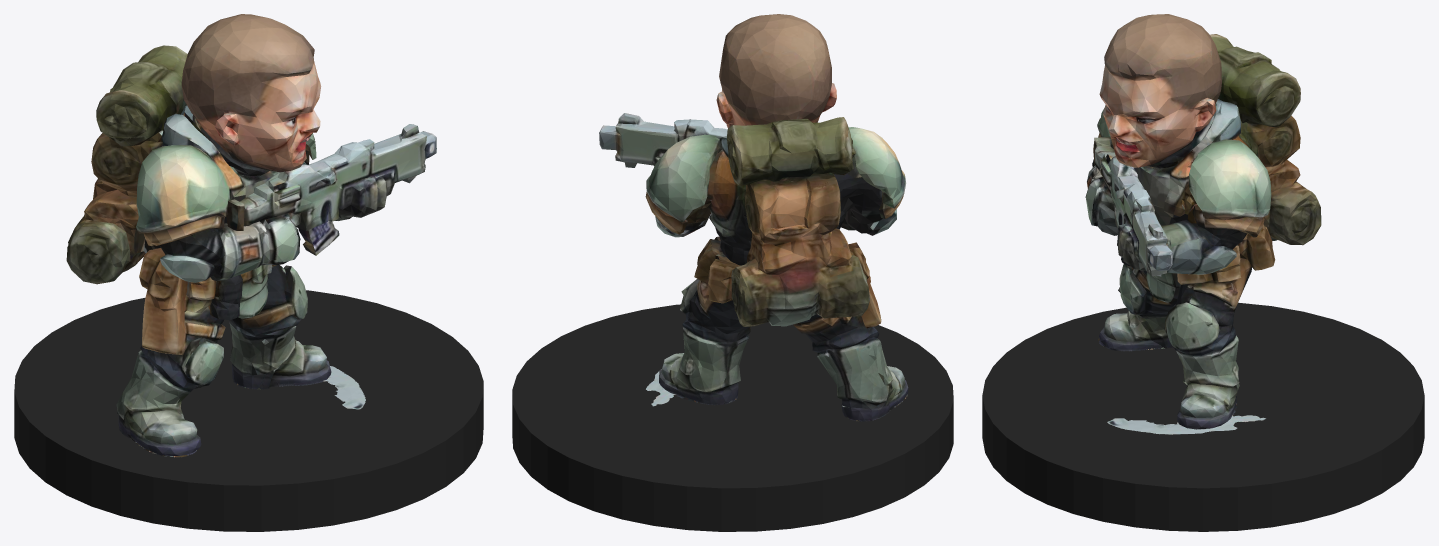
Rendered from ss-warrior-boltgun-b.glb.
The picture shows the model from 3 angles, left to right: view 1: azimuth 30°, elevation 25°; view 2: azimuth 150°, elevation 25°; view 3: azimuth 270°, elevation 25°; orthographic projection. The views are drawn at different scales.
Parts seen in each view (by area): view 1: figure, base; view 2: base, figure; view 3: base, figure.
Part boxes in pixels (bbox=[...]): figure: bbox=[66, 14, 436, 457]; base: bbox=[14, 290, 483, 531]; base: bbox=[512, 304, 953, 531]; figure: bbox=[599, 14, 908, 421]; base: bbox=[982, 302, 1424, 531]; figure: bbox=[1085, 14, 1321, 434].
Bounding box in the file's own units: 1.1 × 1.12 × 1.1.
Materials: 2 (1 with a texture image).
